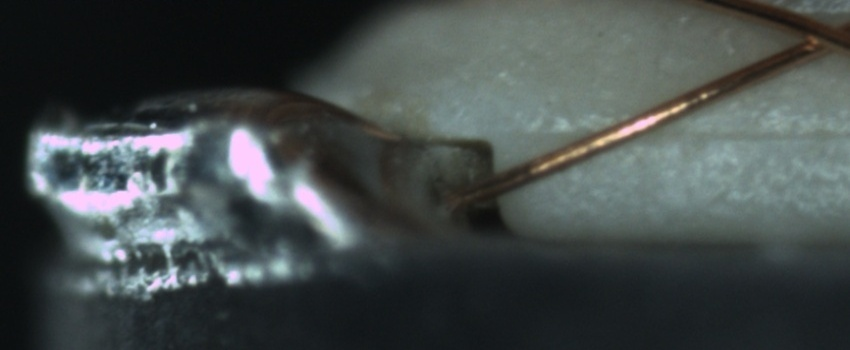CL: (778, 7, 848, 64)
DL: (552, 98, 850, 164)
